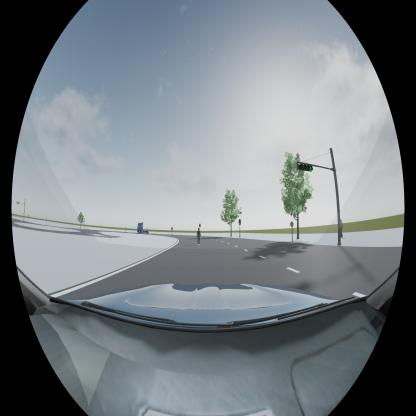Green Light: (298, 163, 312, 172), (238, 219, 240, 225)
Red Light: (200, 224, 200, 228)
Speed Limit 90: (290, 221, 294, 227)
